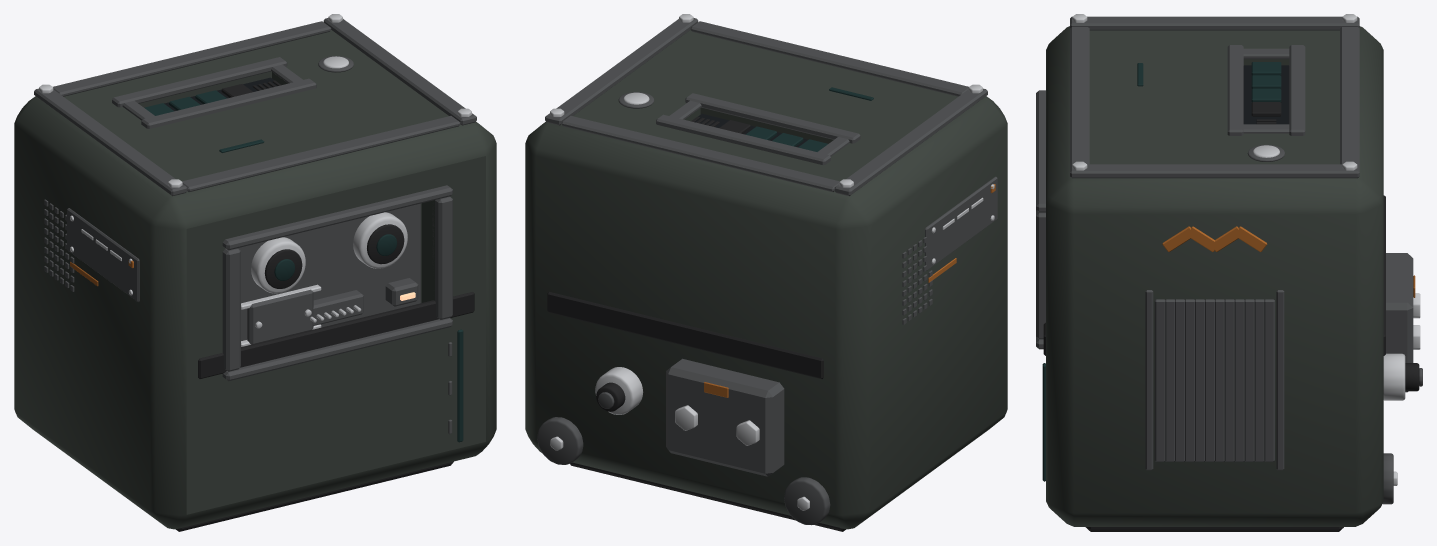
Rendered from SM_Prop_CubeA.fbx.
3 views of the same model, side by side, from view 1: azimuth 30°, elevation 25°; view 2: azimuth 150°, elevation 25°; view 3: azimuth 270°, elevation 25° (orthographic). The views are drawn at different scales.
Parts seen in each view (by area): view 1: SM_SciFiCube; view 2: SM_SciFiCube; view 3: SM_SciFiCube.
Boxes of the visible parts, x1,y1,x2,y2 form: SM_SciFiCube: (14,14,496,531); SM_SciFiCube: (525,14,1007,531); SM_SciFiCube: (1036,14,1422,531).
Size of the model in its own units: 42.85 by 41.4 by 38.95.
